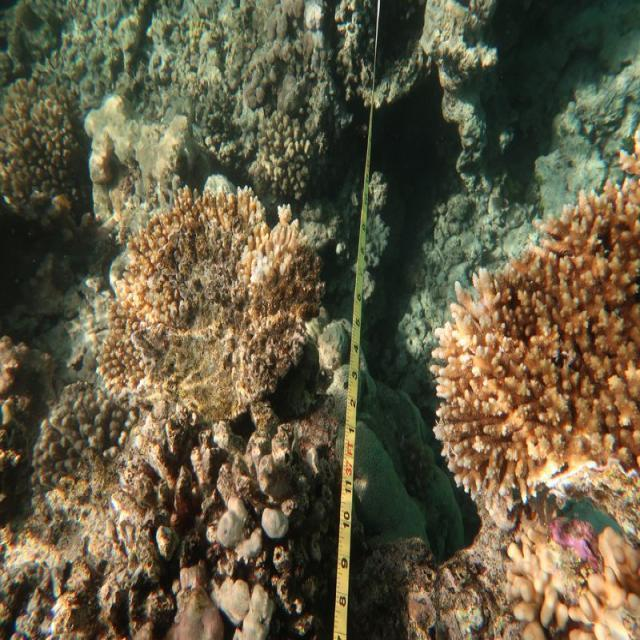Healthy Coral: (414, 180, 640, 506), (504, 514, 640, 640)
